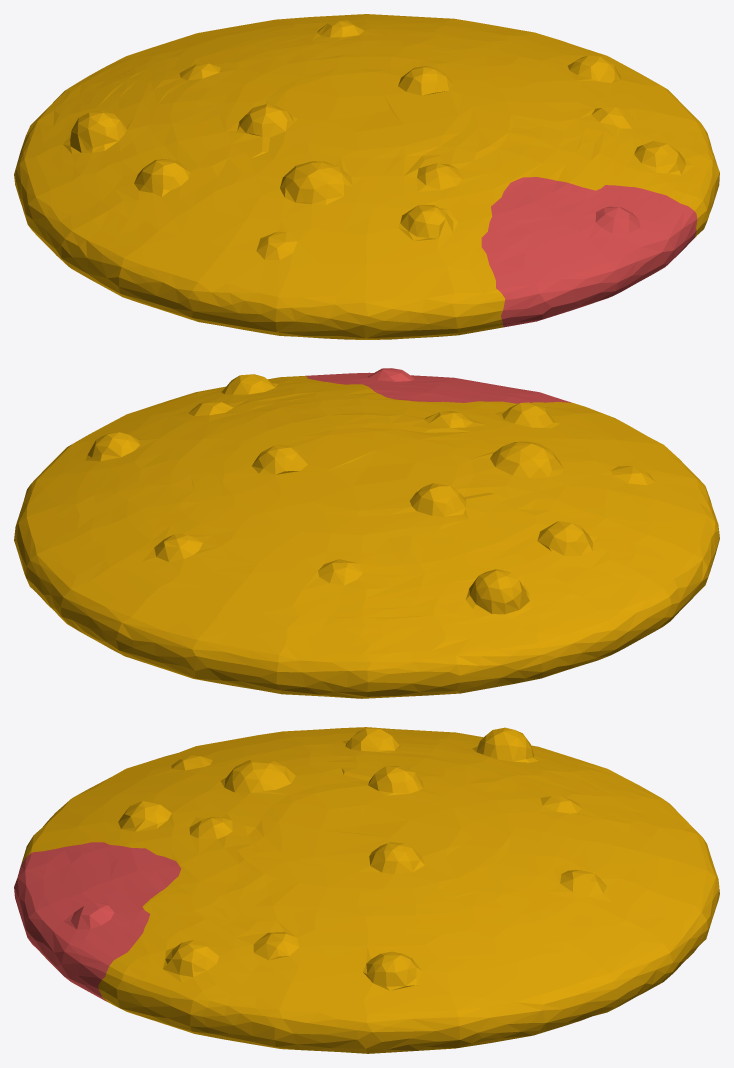
File: fractured_58_2pcs.glb
3 views of the same model, one above another, from view 1: azimuth 30°, elevation 25°; view 2: azimuth 150°, elevation 25°; view 3: azimuth 270°, elevation 25° (orthographic).
Visible parts, largest first — view 1: piece_0.obj, piece_1.obj; view 2: piece_0.obj, piece_1.obj; view 3: piece_0.obj, piece_1.obj.
Part boxes in pixels (x1,y1,x2,y2): piece_0.obj: (14,14,719,339); piece_1.obj: (481,177,697,327); piece_0.obj: (14,374,719,698); piece_1.obj: (305,368,571,403); piece_0.obj: (20,727,719,1053); piece_1.obj: (14,842,181,1001).
Size of the model in its own units: 0.999 by 0.1589 by 1.
